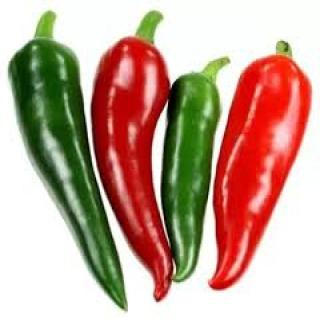Cabai Hijau: (7, 11, 127, 313), (164, 58, 230, 284)
Cabai Merah: (209, 42, 314, 292), (90, 13, 175, 304)
